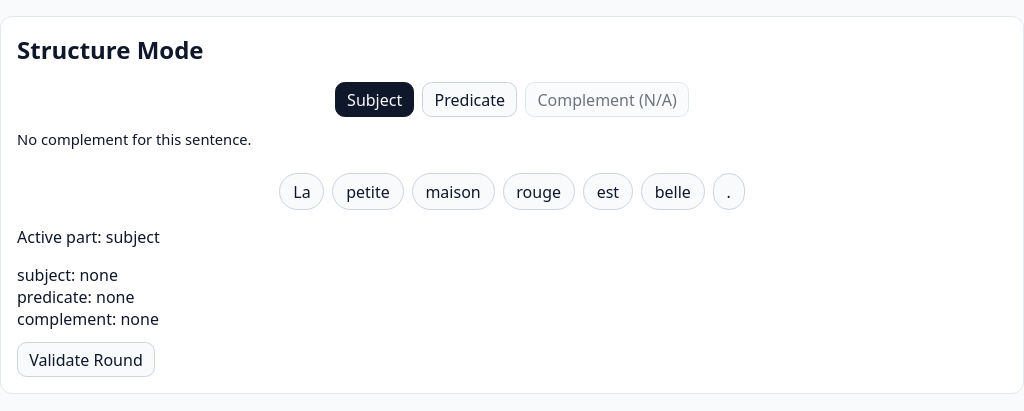
Test case: StructureMode › supports role-first selection across subject and predicate parts
The image size is (1024, 411).
Step 1. Click the button "La" → (302, 192), box [280,173,324,210]
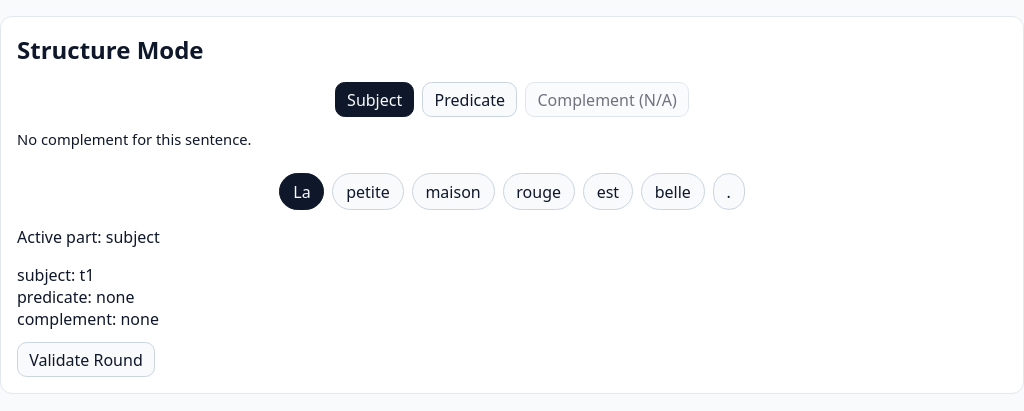
Result: the list item "subject: t1" is shown at [17,264,94,286]
Step 2. Click the button "Predicate" → (470, 100), box [422,82,517,117]
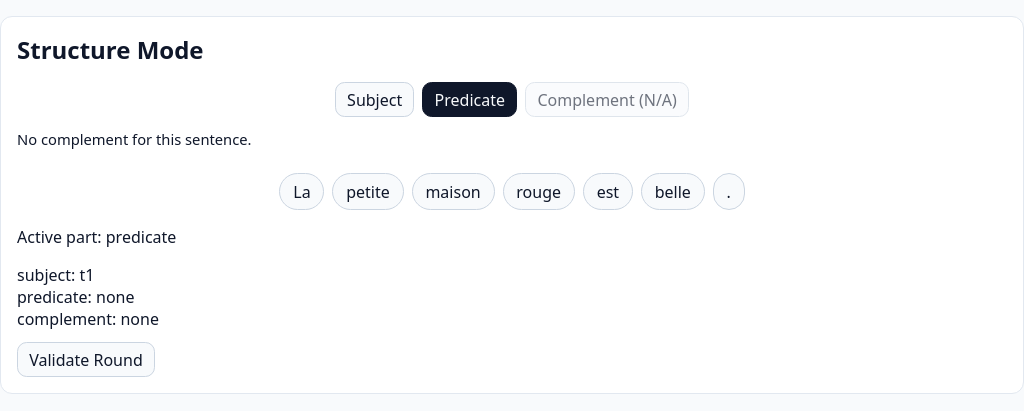
Step 3. Click the button "est" → (608, 192), box [583,173,633,210]
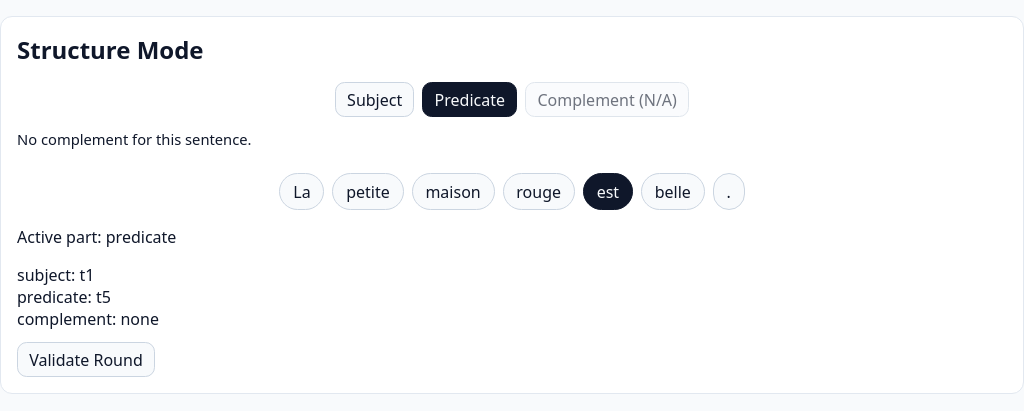
Result: the list item "subject: t1" is shown at [17,264,94,286]
Result: the list item "predicate: t5" is shown at [17,286,111,308]
